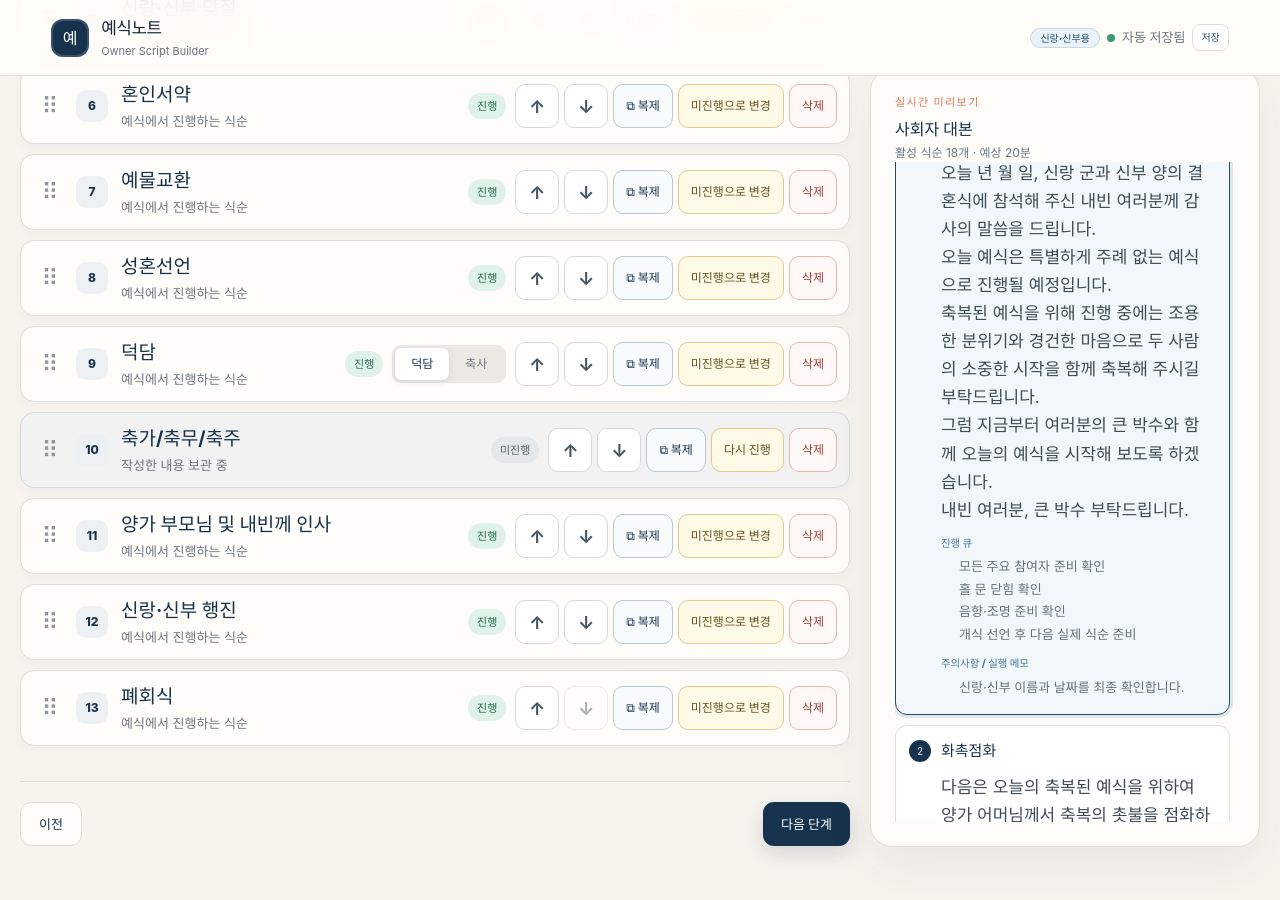
Test: Owner 최종 확인 W4.1 개선 › 비활성 공연 식순을 처음 진행으로 바꾸면 카드 1개만 만들고 축가자 입력에 focus한다
(page scrolled)
Click the button "다시 진행". click: (747,450)
box: [711,428,784,472]
(page scrolled)
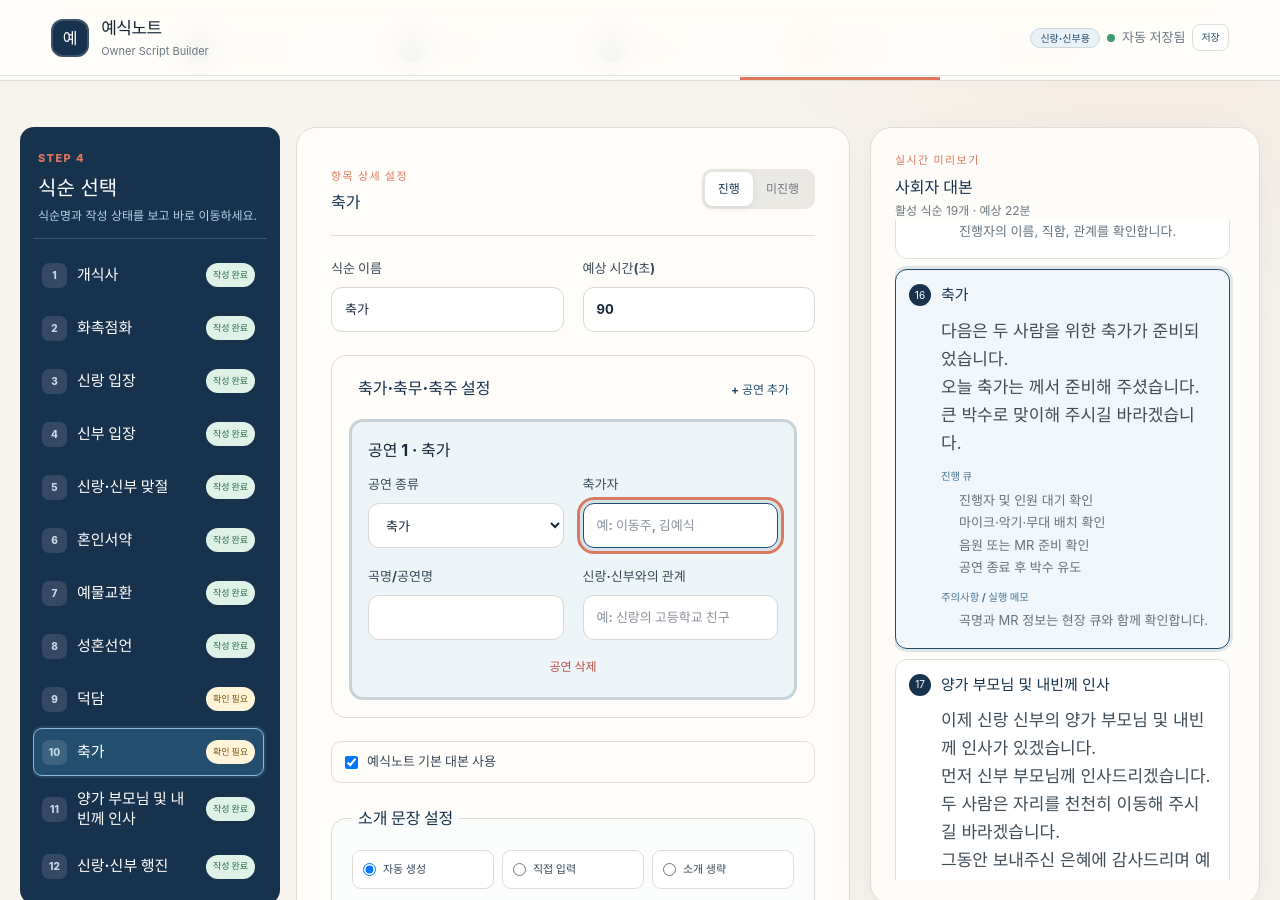
Result: the text "공연 1 · 축가" is shown at [368,440,450,460]
